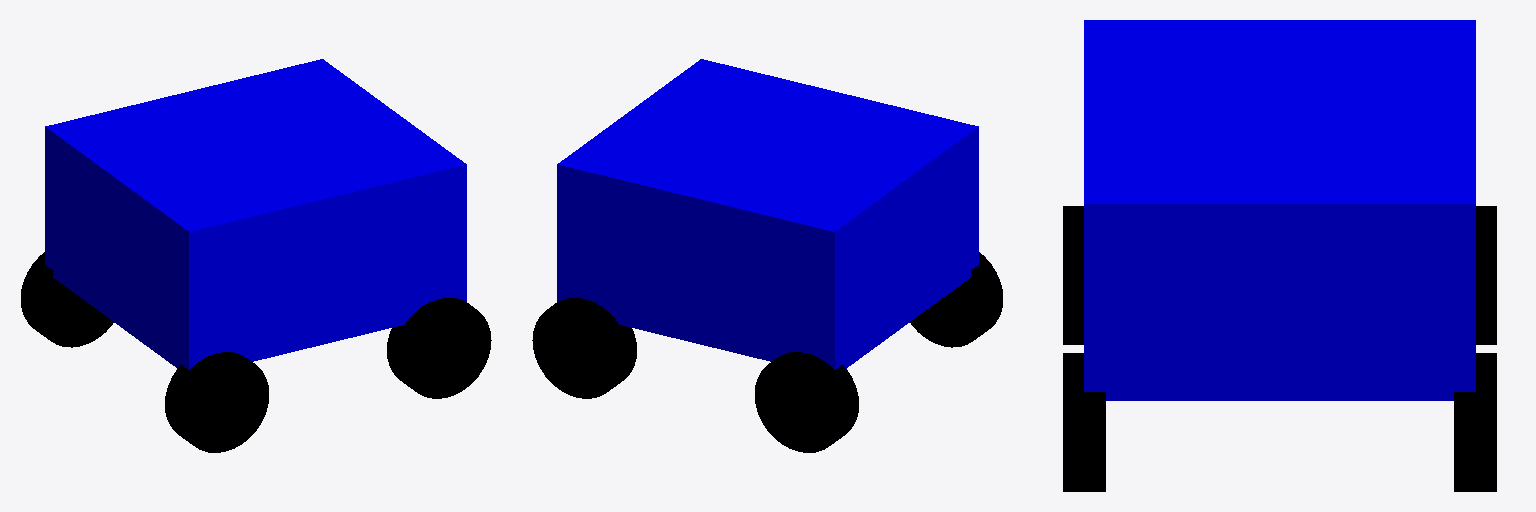
The robot description file, URDF, robot "simple_4wd_robot":
<?xml version="1.0"?>
<robot xmlns:xacro="http://www.ros.org/wiki/xacro" name="simple_4wd_robot">
    
    <!-- 基础链接 -->
    <link name="base_footprint"/>
    
    <joint name="base_joint" type="fixed">
        <origin xyz="0 0 0" rpy="0 0 0"/>
        <parent link="base_footprint"/>
        <child link="base_link"/>
    </joint>
    
    <!-- 底盘 - 尺寸与agribot一致 (长0.2m, 宽0.18m) -->
    <link name="base_link">
        <visual>
            <origin xyz="0 0 0.05" rpy="0 0 0"/>
            <geometry>
                <box size="0.2 0.18 0.1"/>
            </geometry>
            <material name="blue">
                <color rgba="0 0 1 1"/>
            </material>
        </visual>
        <collision>
            <origin xyz="0 0 0.05" rpy="0 0 0"/>
            <geometry>
                <box size="0.2 0.18 0.1"/>
            </geometry>
        </collision>
        <inertial>
            <origin xyz="0 0 0.05" rpy="0 0 0"/>
            <mass value="5.0"/>
            <inertia ixx="0.05" ixy="0.0" ixz="0.0" iyy="0.05" iyz="0.0" izz="0.05"/>
        </inertial>
    </link>
    
    <!-- 左前轮 -->
    <link name="lf_wheel_link">
        <visual>
            <origin xyz="0 0 0" rpy="1.5707963 0 0"/>
            <geometry>
                <cylinder radius="0.032" length="0.02"/>
            </geometry>
            <material name="black">
                <color rgba="0 0 0 1"/>
            </material>
        </visual>
        <collision>
            <origin xyz="0 0 0" rpy="1.5707963 0 0"/>
            <geometry>
                <cylinder radius="0.032" length="0.02"/>
            </geometry>
        </collision>
        <inertial>
            <origin xyz="0 0 0" rpy="0 0 0"/>
            <mass value="0.5"/>
            <inertia ixx="0.001" ixy="0.0" ixz="0.0" iyy="0.001" iyz="0.0" izz="0.001"/>
        </inertial>
    </link>
    
    <joint name="lf_wheel_joint" type="continuous">
        <origin xyz="0.08 0.09 -0.02" rpy="0 0 0"/>
        <parent link="base_link"/>
        <child link="lf_wheel_link"/>
        <axis xyz="0 1 0"/>
    </joint>
    
    <!-- 左后轮 -->
    <link name="lb_wheel_link">
        <visual>
            <origin xyz="0 0 0" rpy="1.5707963 0 0"/>
            <geometry>
                <cylinder radius="0.032" length="0.02"/>
            </geometry>
            <material name="black">
                <color rgba="0 0 0 1"/>
            </material>
        </visual>
        <collision>
            <origin xyz="0 0 0" rpy="1.5707963 0 0"/>
            <geometry>
                <cylinder radius="0.032" length="0.02"/>
            </geometry>
        </collision>
        <inertial>
            <origin xyz="0 0 0" rpy="0 0 0"/>
            <mass value="0.5"/>
            <inertia ixx="0.001" ixy="0.0" ixz="0.0" iyy="0.001" iyz="0.0" izz="0.001"/>
        </inertial>
    </link>
    
    <joint name="lb_wheel_joint" type="continuous">
        <origin xyz="-0.08 0.09 -0.02" rpy="0 0 0"/>
        <parent link="base_link"/>
        <child link="lb_wheel_link"/>
        <axis xyz="0 1 0"/>
    </joint>
    
    <!-- 右前轮 -->
    <link name="rf_wheel_link">
        <visual>
            <origin xyz="0 0 0" rpy="1.5707963 0 0"/>
            <geometry>
                <cylinder radius="0.032" length="0.02"/>
            </geometry>
            <material name="black">
                <color rgba="0 0 0 1"/>
            </material>
        </visual>
        <collision>
            <origin xyz="0 0 0" rpy="1.5707963 0 0"/>
            <geometry>
                <cylinder radius="0.032" length="0.02"/>
            </geometry>
        </collision>
        <inertial>
            <origin xyz="0 0 0" rpy="0 0 0"/>
            <mass value="0.5"/>
            <inertia ixx="0.001" ixy="0.0" ixz="0.0" iyy="0.001" iyz="0.0" izz="0.001"/>
        </inertial>
    </link>
    
    <joint name="rf_wheel_joint" type="continuous">
        <origin xyz="0.08 -0.09 -0.02" rpy="0 0 0"/>
        <parent link="base_link"/>
        <child link="rf_wheel_link"/>
        <axis xyz="0 1 0"/>
    </joint>
    
    <!-- 右后轮 -->
    <link name="rb_wheel_link">
        <visual>
            <origin xyz="0 0 0" rpy="1.5707963 0 0"/>
            <geometry>
                <cylinder radius="0.032" length="0.02"/>
            </geometry>
            <material name="black">
                <color rgba="0 0 0 1"/>
            </material>
        </visual>
        <collision>
            <origin xyz="0 0 0" rpy="1.5707963 0 0"/>
            <geometry>
                <cylinder radius="0.032" length="0.02"/>
            </geometry>
        </collision>
        <inertial>
            <origin xyz="0 0 0" rpy="0 0 0"/>
            <mass value="0.5"/>
            <inertia ixx="0.001" ixy="0.0" ixz="0.0" iyy="0.001" iyz="0.0" izz="0.001"/>
        </inertial>
    </link>
    
    <joint name="rb_wheel_joint" type="continuous">
        <origin xyz="-0.08 -0.09 -0.02" rpy="0 0 0"/>
        <parent link="base_link"/>
        <child link="rb_wheel_link"/>
        <axis xyz="0 1 0"/>
    </joint>
    
    <!-- Gazebo ROS2 Control 插件 -->
    <gazebo>
        <plugin filename="libgazebo_ros2_control.so" name="gazebo_ros2_control">
            <parameters>/home/xkai/agribot/agribot_ws/install/agribot_simulation/share/agribot_simulation/config/simple_4wd_controller.yaml</parameters>
            <ros>
                <remapping>/simple_4wd_controller/cmd_vel_unstamped:=/cmd_vel</remapping>
                <remapping>/simple_4wd_controller/odom:=/odom</remapping>
            </ros>
        </plugin>
    </gazebo>
    
    <!-- Gazebo 物理属性 -->
    <gazebo reference="base_link">
        <mu1>0.5</mu1>
        <mu2>0.5</mu2>
        <kp>1000000.0</kp>
        <kd>10.0</kd>
    </gazebo>
    
    <!-- 轮子摩擦系数 - 降低以减少旋转阻力 -->
    <gazebo reference="lf_wheel_link">
        <mu1>1.0</mu1>
        <mu2>0.5</mu2>
        <kp>1000000.0</kp>
        <kd>10.0</kd>
        <minDepth>0.001</minDepth>
        <maxVel>1.0</maxVel>
    </gazebo>
    
    <gazebo reference="lb_wheel_link">
        <mu1>1.0</mu1>
        <mu2>0.5</mu2>
        <kp>1000000.0</kp>
        <kd>10.0</kd>
        <minDepth>0.001</minDepth>
        <maxVel>1.0</maxVel>
    </gazebo>
    
    <gazebo reference="rf_wheel_link">
        <mu1>1.0</mu1>
        <mu2>0.5</mu2>
        <kp>1000000.0</kp>
        <kd>10.0</kd>
        <minDepth>0.001</minDepth>
        <maxVel>1.0</maxVel>
    </gazebo>
    
    <gazebo reference="rb_wheel_link">
        <mu1>1.0</mu1>
        <mu2>0.5</mu2>
        <kp>1000000.0</kp>
        <kd>10.0</kd>
        <minDepth>0.001</minDepth>
        <maxVel>1.0</maxVel>
    </gazebo>
    
    <!-- ros2_control 硬件接口定义 -->
    <ros2_control name="GazeboSystem" type="system">
        <hardware>
            <plugin>gazebo_ros2_control/GazeboSystem</plugin>
        </hardware>
        
        <joint name="lf_wheel_joint">
            <command_interface name="velocity">
                <param name="min">-10</param>
                <param name="max">10</param>
            </command_interface>
            <command_interface name="effort">
                <param name="min">-5.0</param>
                <param name="max">5.0</param>
            </command_interface>
            <state_interface name="velocity"/>
            <state_interface name="position"/>
        </joint>
        
        <joint name="lb_wheel_joint">
            <command_interface name="velocity">
                <param name="min">-10</param>
                <param name="max">10</param>
            </command_interface>
            <command_interface name="effort">
                <param name="min">-5.0</param>
                <param name="max">5.0</param>
            </command_interface>
            <state_interface name="velocity"/>
            <state_interface name="position"/>
        </joint>
        
        <joint name="rf_wheel_joint">
            <command_interface name="velocity">
                <param name="min">-10</param>
                <param name="max">10</param>
            </command_interface>
            <command_interface name="effort">
                <param name="min">-5.0</param>
                <param name="max">5.0</param>
            </command_interface>
            <state_interface name="velocity"/>
            <state_interface name="position"/>
        </joint>
        
        <joint name="rb_wheel_joint">
            <command_interface name="velocity">
                <param name="min">-10</param>
                <param name="max">10</param>
            </command_interface>
            <command_interface name="effort">
                <param name="min">-5.0</param>
                <param name="max">5.0</param>
            </command_interface>
            <state_interface name="velocity"/>
            <state_interface name="position"/>
        </joint>
    </ros2_control>
    
</robot>

--- What the picture shows (computed from the rendered views, not written in the file) ---
Views: 3 orthographic renders of the robot side by side, from view 1: azimuth 30°, elevation 25°; view 2: azimuth 150°, elevation 25°; view 3: azimuth 270°, elevation 25°.
Model simple_4wd_robot with 6 links and 5 joints (4 continuous, 1 fixed), rooted at base_footprint, posed all joints at 0.
Links seen in each view (by area): view 1: base_link, rb_wheel_link, rf_wheel_link, lb_wheel_link; view 2: base_link, lb_wheel_link, lf_wheel_link, rb_wheel_link; view 3: base_link, lf_wheel_link, rf_wheel_link, lb_wheel_link, rb_wheel_link.
Link boxes in pixels (<box>): base_link: <box>45,59,466,369</box>; rb_wheel_link: <box>165,352,268,452</box>; rf_wheel_link: <box>387,298,491,398</box>; lb_wheel_link: <box>21,252,113,347</box>; base_link: <box>557,59,978,369</box>; lb_wheel_link: <box>755,352,858,452</box>; lf_wheel_link: <box>532,298,636,398</box>; rb_wheel_link: <box>910,252,1002,347</box>; base_link: <box>1084,20,1475,400</box>; lf_wheel_link: <box>1454,353,1496,491</box>; rf_wheel_link: <box>1063,353,1105,491</box>; lb_wheel_link: <box>1476,206,1496,344</box>; rb_wheel_link: <box>1063,206,1083,344</box>.
Bounding box of the posed robot: 0.224 × 0.2 × 0.152 m (x, y, z).
Geometry: primitives only (box / cylinder / sphere), no mesh files.
